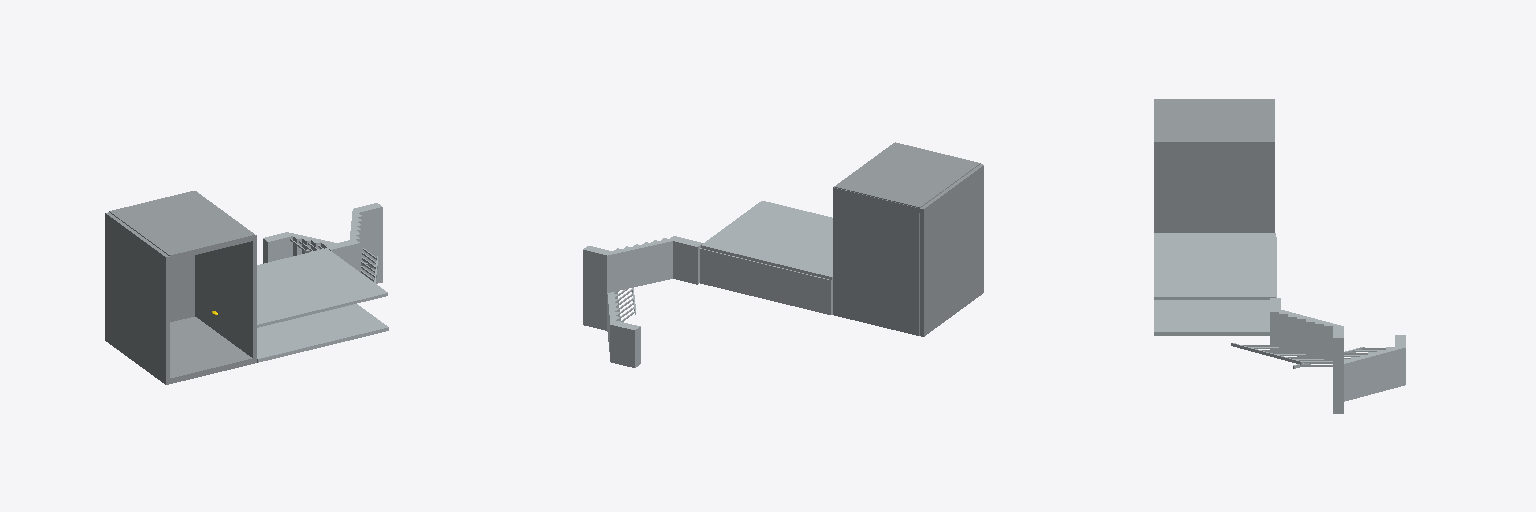
The model's file is stairs_tinker.obj.
3 renders of one model, left to right at view 1: azimuth 30°, elevation 25°; view 2: azimuth 150°, elevation 25°; view 3: azimuth 270°, elevation 25°, orthographic.
Visible parts, largest first — view 1: obj_0; view 2: obj_0; view 3: obj_0.
Boxes of the visible parts, <box> form: obj_0: <box>105,191,388,384</box>; obj_0: <box>583,142,983,367</box>; obj_0: <box>1154,99,1405,413</box>.
Bounding box in the file's own units: 270 × 140 × 193.